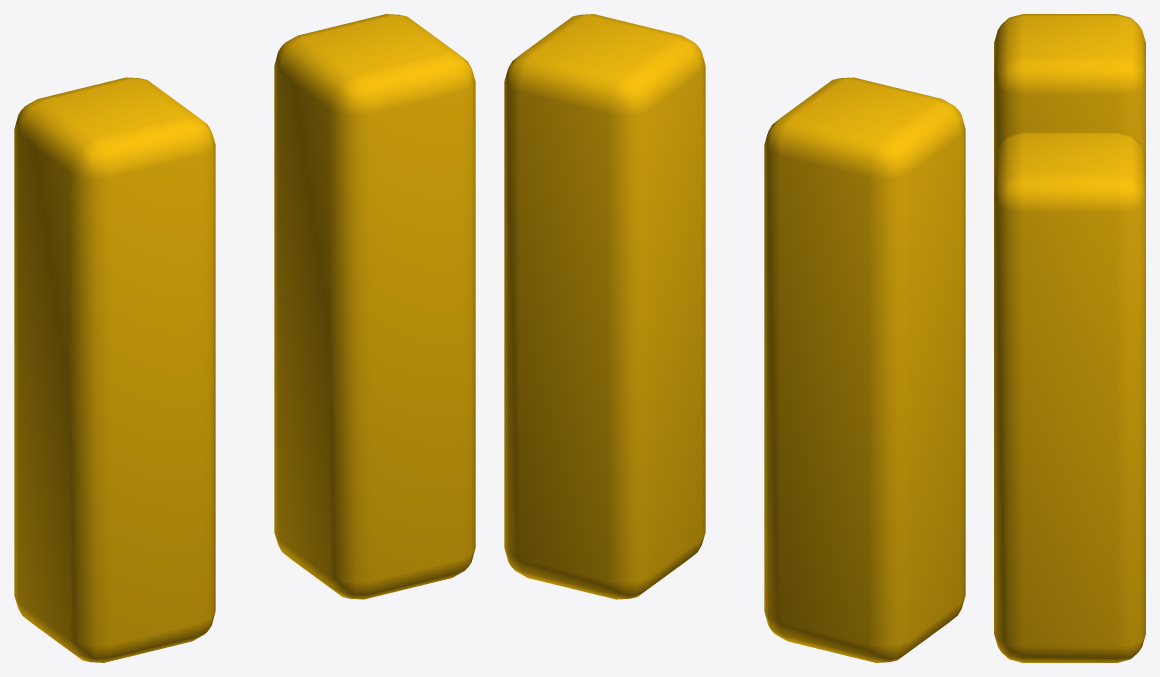
Rendered from Pause_1.fbx.
The picture shows the model from 3 angles, left to right: view 1: azimuth 30°, elevation 25°; view 2: azimuth 150°, elevation 25°; view 3: azimuth 270°, elevation 25°; orthographic projection. The views are drawn at different scales.
Visible parts, largest first — view 1: Pause_1; view 2: Pause_1; view 3: Pause_1.
Part boxes in pixels (bbox=[...]): Pause_1: bbox=[14, 14, 475, 662]; Pause_1: bbox=[504, 14, 965, 662]; Pause_1: bbox=[994, 14, 1145, 662].
Size of the model in its own units: 0.1675 by 0.2082 by 0.059.
